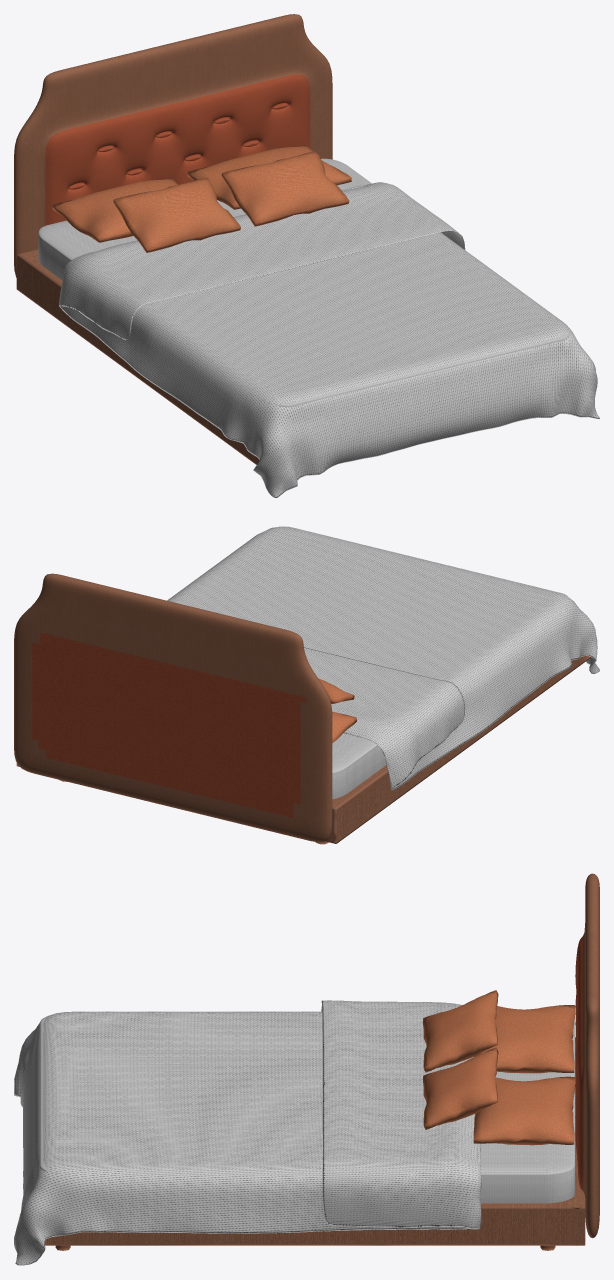
File: obj_bed_2179f5.glb
The picture shows the model from 3 angles, top to bottom: view 1: azimuth 30°, elevation 25°; view 2: azimuth 150°, elevation 25°; view 3: azimuth 270°, elevation 25°; orthographic projection. The views are drawn at different scales.
Parts seen in each view (by area): view 1: obj_bed_2179f5; view 2: obj_bed_2179f5; view 3: obj_bed_2179f5.
Boxes of the visible parts, x1,y1,x2,y2 form: obj_bed_2179f5: (14, 14, 599, 497); obj_bed_2179f5: (14, 526, 599, 844); obj_bed_2179f5: (14, 873, 599, 1265).
Bounding box in the file's own units: 1.49 × 0.9107 × 2.
4 materials, 4 textured.
